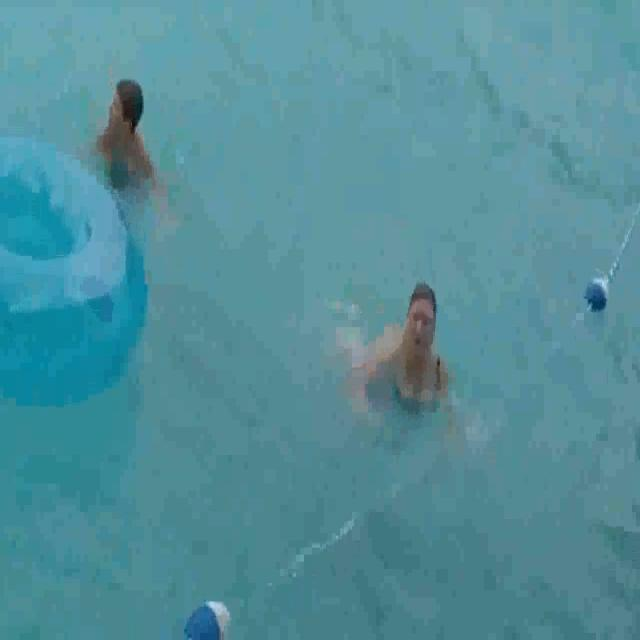drowning: (322, 255, 492, 506)
swimming: (90, 75, 177, 212)
